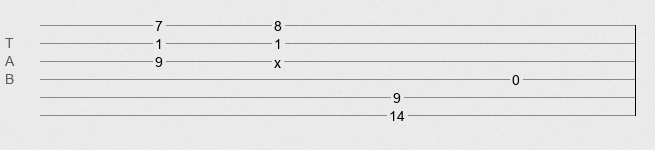0: (512, 72, 520, 82)
1: (155, 36, 163, 46), (274, 36, 282, 46)
14: (389, 108, 405, 118)
7: (155, 18, 163, 28)
8: (274, 18, 282, 28)
9: (155, 54, 163, 64), (393, 90, 401, 100)
x: (274, 55, 281, 63)
